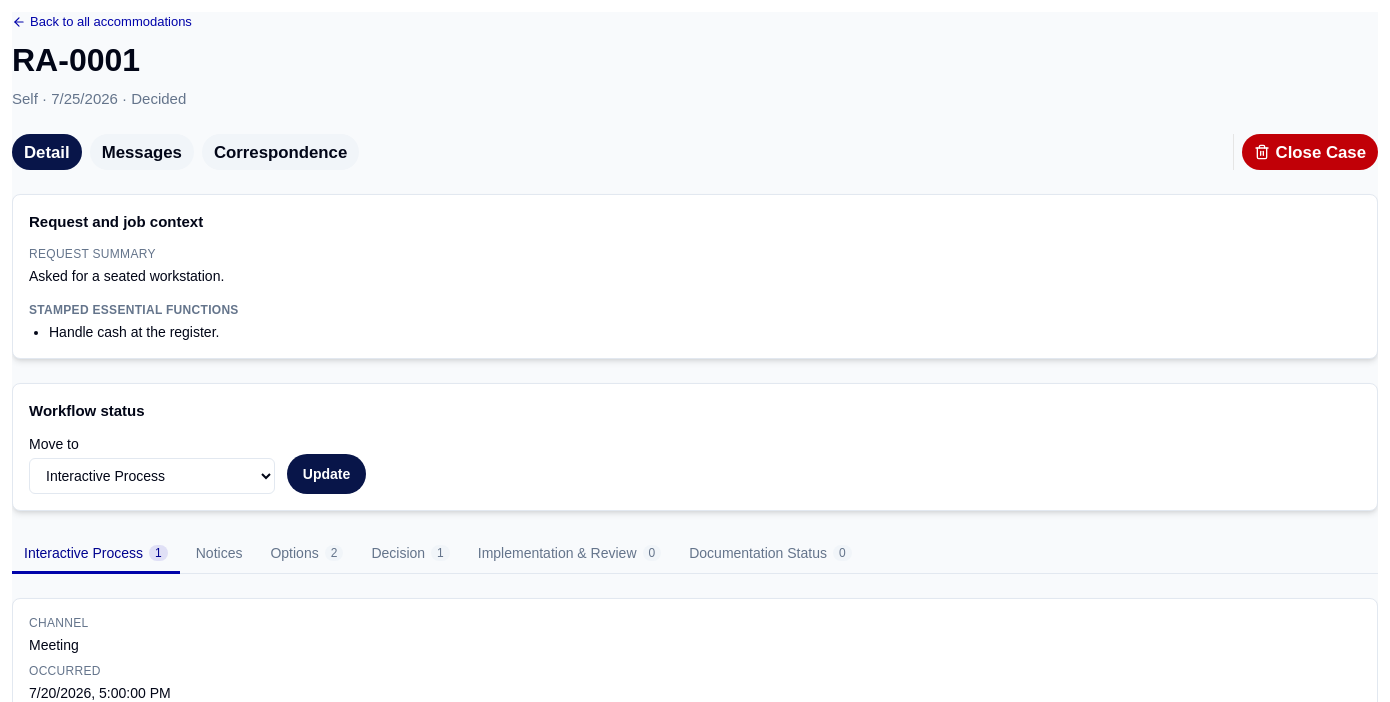
implementation resolves the option from the active decision › offers the decided option after a reload, with no local selection made
Click the tab "Implementation & review 0" at (570,555), box [466, 535, 673, 574]
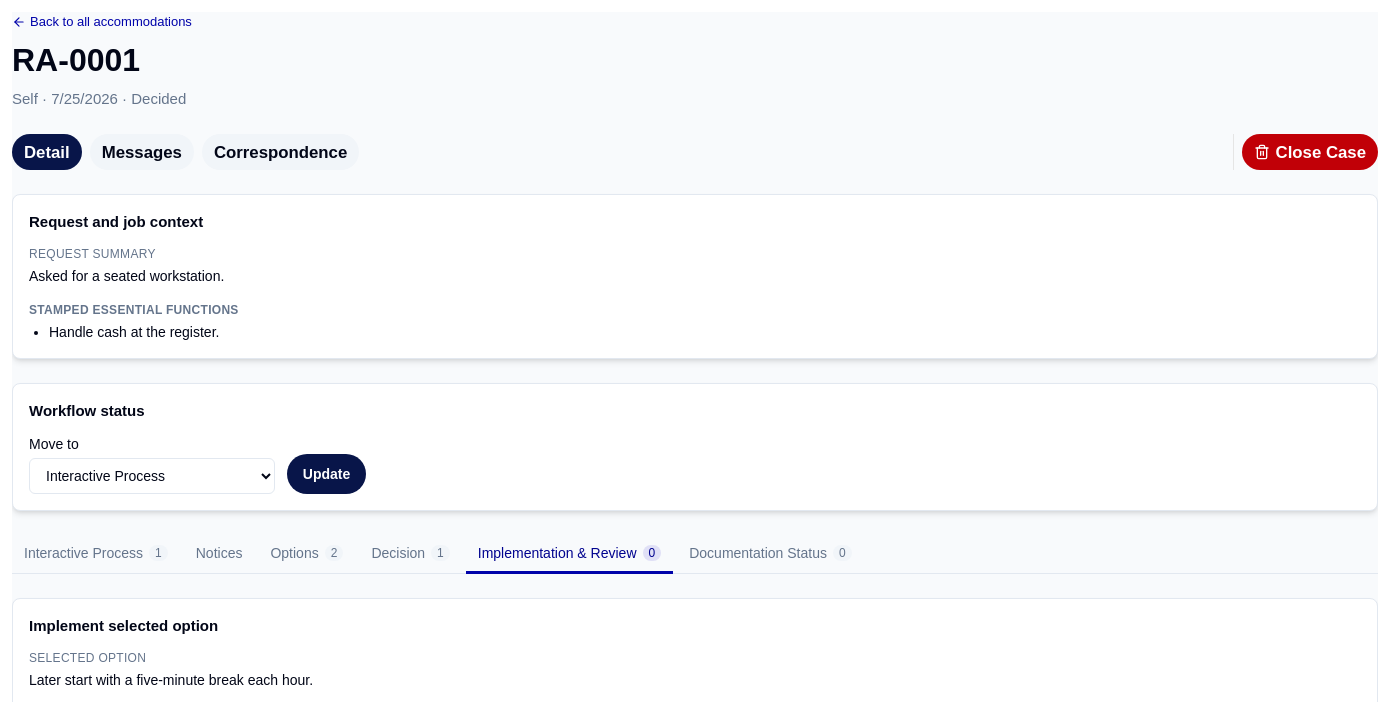
Now the heading "Implement selected option" is shown, box [29, 615, 218, 638]
Now the text "Later start with a five-minute break each hour." is shown, box [29, 672, 313, 688]
